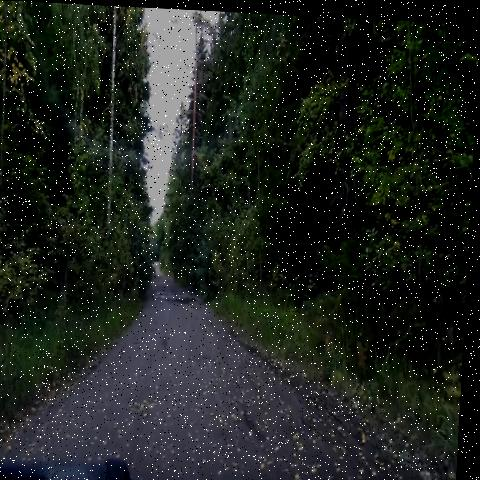pothole: (228, 388, 280, 448), (173, 284, 205, 315)
